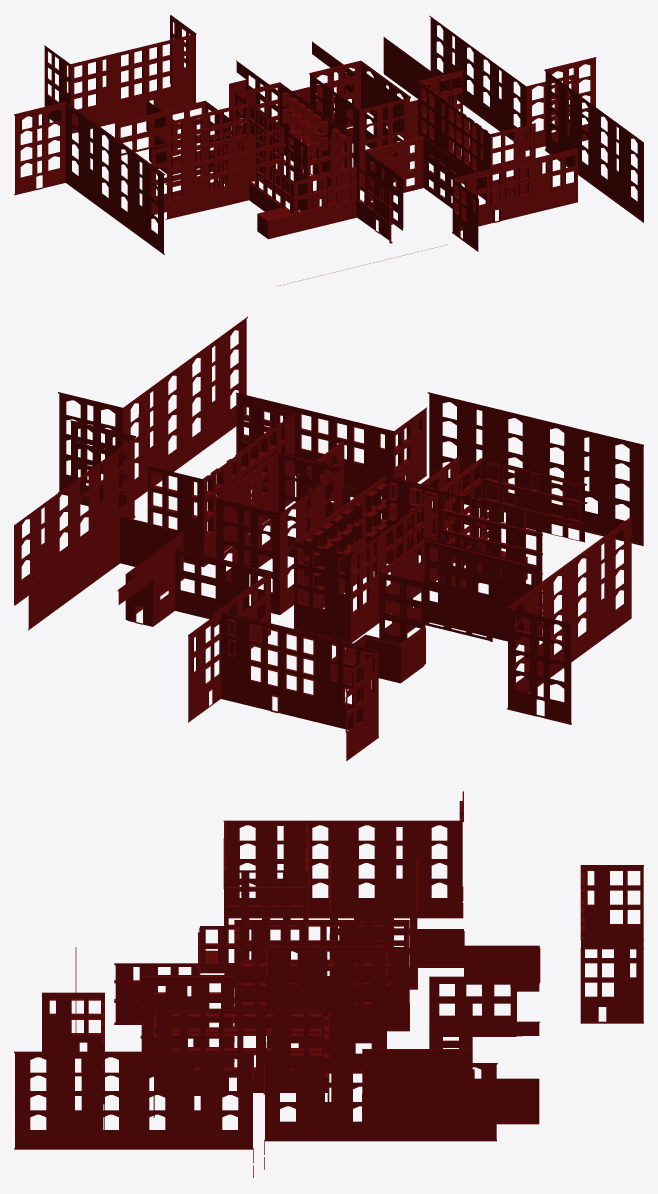
Rendered from ApartmentBuildings.fbx.
The picture shows the model from 3 angles, top to bottom: view 1: azimuth 30°, elevation 25°; view 2: azimuth 150°, elevation 25°; view 3: azimuth 270°, elevation 25°; orthographic projection. The views are drawn at different scales.
Visible parts, largest first — view 1: ApartmentBuilding_10_Base_low, ApartmentBuilding_11_Base_low, Apartment_Buidling_04_Base_low, ApartmentBuilding_02_Base_low, ApartmentBuilding_07_Base_low, Apartment_Buidling_01_Base_low, Apartment_Buidling_03_Base_low, Apartment_Buidling_09_Base_low, ApartmentBuilding_05_Base_low, ApartmentBuilding_08_Base_low, ApartmentBuilding_06_Base_low; view 2: ApartmentBuilding_02_Base_low, Apartment_Buidling_04_Base_low, Apartment_Buidling_01_Base_low, ApartmentBuilding_12_Base_low, ApartmentBuilding_10_Base_low, ApartmentBuilding_11_Base_low, ApartmentBuilding_07_Base_low, ApartmentBuilding_05_Base_low, Apartment_Buidling_03_Base_low, ApartmentBuilding_08_Base_low, Apartment_Buidling_09_Base_low, ApartmentBuilding_06_Base_low; view 3: ApartmentBuilding_07_Base_low, ApartmentBuilding_02_Base_low, ApartmentBuilding_11_Base_low, ApartmentBuilding_08_Base_low, ApartmentBuilding_05_Base_low, Apartment_Buidling_01_Base_low, Apartment_Buidling_03_Base_low, Apartment_Buidling_04_Base_low, ApartmentBuilding_10_Base_low, ApartmentBuilding_06_Base_low, Apartment_Buidling_09_Base_low.
Boxes of the visible parts, x1=… form: ApartmentBuilding_10_Base_low: x1=165, y1=102, x2=392, y2=243; ApartmentBuilding_11_Base_low: x1=14, y1=101, x2=165, y2=254; Apartment_Buidling_04_Base_low: x1=44, y1=15, x2=196, y2=133; ApartmentBuilding_02_Base_low: x1=114, y1=37, x2=456, y2=214; ApartmentBuilding_07_Base_low: x1=544, y1=57, x2=643, y2=222; Apartment_Buidling_01_Base_low: x1=234, y1=82, x2=352, y2=211; Apartment_Buidling_03_Base_low: x1=418, y1=70, x2=535, y2=201; Apartment_Buidling_09_Base_low: x1=452, y1=148, x2=577, y2=251; ApartmentBuilding_05_Base_low: x1=309, y1=60, x2=410, y2=190; ApartmentBuilding_08_Base_low: x1=429, y1=15, x2=573, y2=150; ApartmentBuilding_06_Base_low: x1=364, y1=135, x2=462, y2=230; ApartmentBuilding_02_Base_low: x1=28, y1=516, x2=538, y2=683; Apartment_Buidling_04_Base_low: x1=188, y1=611, x2=378, y2=761; Apartment_Buidling_01_Base_low: x1=293, y1=475, x2=438, y2=642; ApartmentBuilding_12_Base_low: x1=427, y1=392, x2=643, y2=545; ApartmentBuilding_10_Base_low: x1=416, y1=455, x2=587, y2=635; ApartmentBuilding_11_Base_low: x1=506, y1=517, x2=631, y2=724; ApartmentBuilding_07_Base_low: x1=58, y1=316, x2=247, y2=501; ApartmentBuilding_05_Base_low: x1=215, y1=452, x2=343, y2=614; Apartment_Buidling_03_Base_low: x1=147, y1=399, x2=295, y2=566; ApartmentBuilding_08_Base_low: x1=14, y1=420, x2=135, y2=605; Apartment_Buidling_09_Base_low: x1=236, y1=392, x2=426, y2=497; ApartmentBuilding_06_Base_low: x1=295, y1=440, x2=418, y2=543; ApartmentBuilding_07_Base_low: x1=14, y1=1051, x2=253, y2=1177; ApartmentBuilding_02_Base_low: x1=329, y1=858, x2=540, y2=1124; ApartmentBuilding_11_Base_low: x1=223, y1=791, x2=463, y2=918; ApartmentBuilding_08_Base_low: x1=263, y1=1063, x2=497, y2=1169; ApartmentBuilding_05_Base_low: x1=266, y1=945, x2=387, y2=1073; Apartment_Buidling_01_Base_low: x1=234, y1=920, x2=409, y2=1031; Apartment_Buidling_03_Base_low: x1=153, y1=1008, x2=329, y2=1117; Apartment_Buidling_04_Base_low: x1=580, y1=865, x2=643, y2=1023; ApartmentBuilding_10_Base_low: x1=114, y1=822, x2=308, y2=1024; ApartmentBuilding_06_Base_low: x1=140, y1=975, x2=234, y2=1072; Apartment_Buidling_09_Base_low: x1=42, y1=992, x2=104, y2=1129.
Size of the model in its own units: 96.82 by 18.35 by 88.19.
